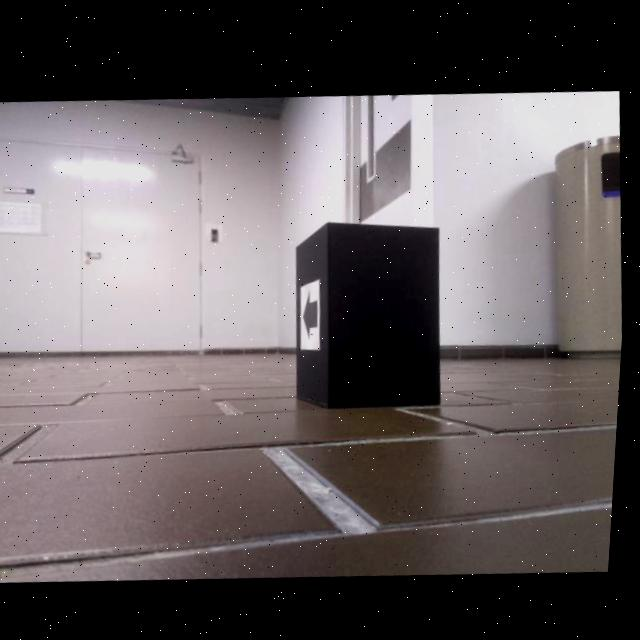LEFT: (305, 285, 321, 337)
